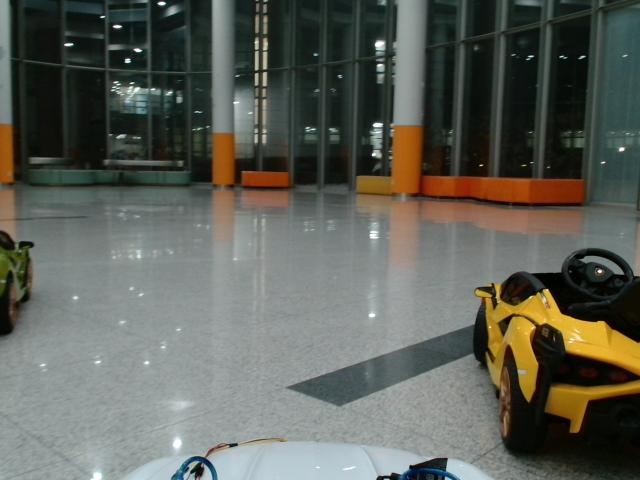car: (474, 248, 640, 455)
